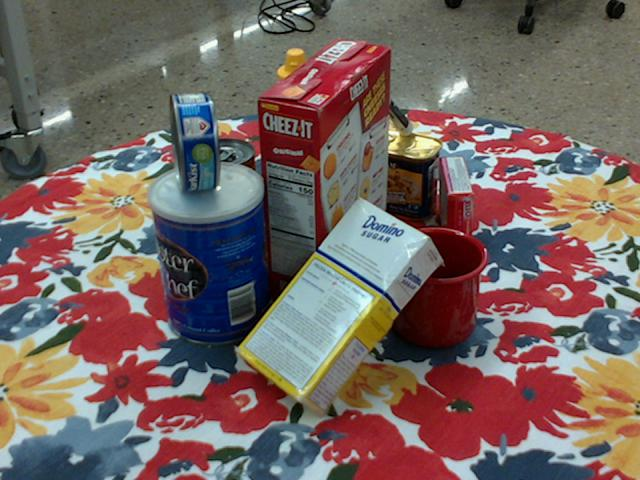cracker_box: (255, 40, 391, 311)
gelatin_box: (439, 154, 472, 252)
large_marker: (365, 81, 412, 134)
master_chef_can: (149, 162, 269, 348)
mug: (358, 225, 487, 347)
mustard_bottle: (257, 49, 343, 223)
potted_meat_can: (348, 125, 441, 220)
sugar_box: (236, 198, 442, 421)
tomato_soup_can: (190, 138, 260, 249)
tuna_fish_can: (168, 92, 220, 192)
